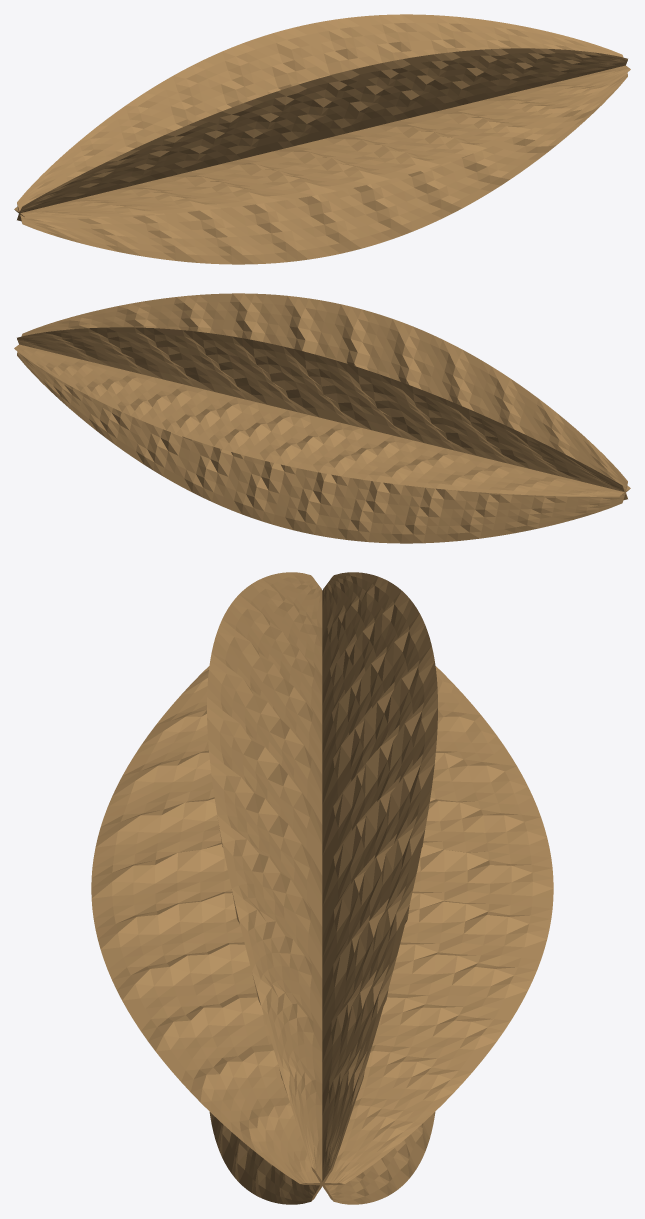
3 views of the same model, one above another, from view 1: azimuth 30°, elevation 25°; view 2: azimuth 150°, elevation 25°; view 3: azimuth 270°, elevation 25° (orthographic). The views are drawn at different scales.
Parts seen in each view (by area): view 1: six_bilaminar_radial_vanes_integrated_hierarchical_ribbed_fo; view 2: six_bilaminar_radial_vanes_integrated_hierarchical_ribbed_fo; view 3: six_bilaminar_radial_vanes_integrated_hierarchical_ribbed_fo.
Boxes of the visible parts, x1,y1,x2,y2 form: six_bilaminar_radial_vanes_integrated_hierarchical_ribbed_fo: (14, 14, 630, 264); six_bilaminar_radial_vanes_integrated_hierarchical_ribbed_fo: (14, 293, 630, 543); six_bilaminar_radial_vanes_integrated_hierarchical_ribbed_fo: (91, 572, 553, 1204).
Bounding box in the file's own units: 0.135 × 0.0386 × 0.0446.
